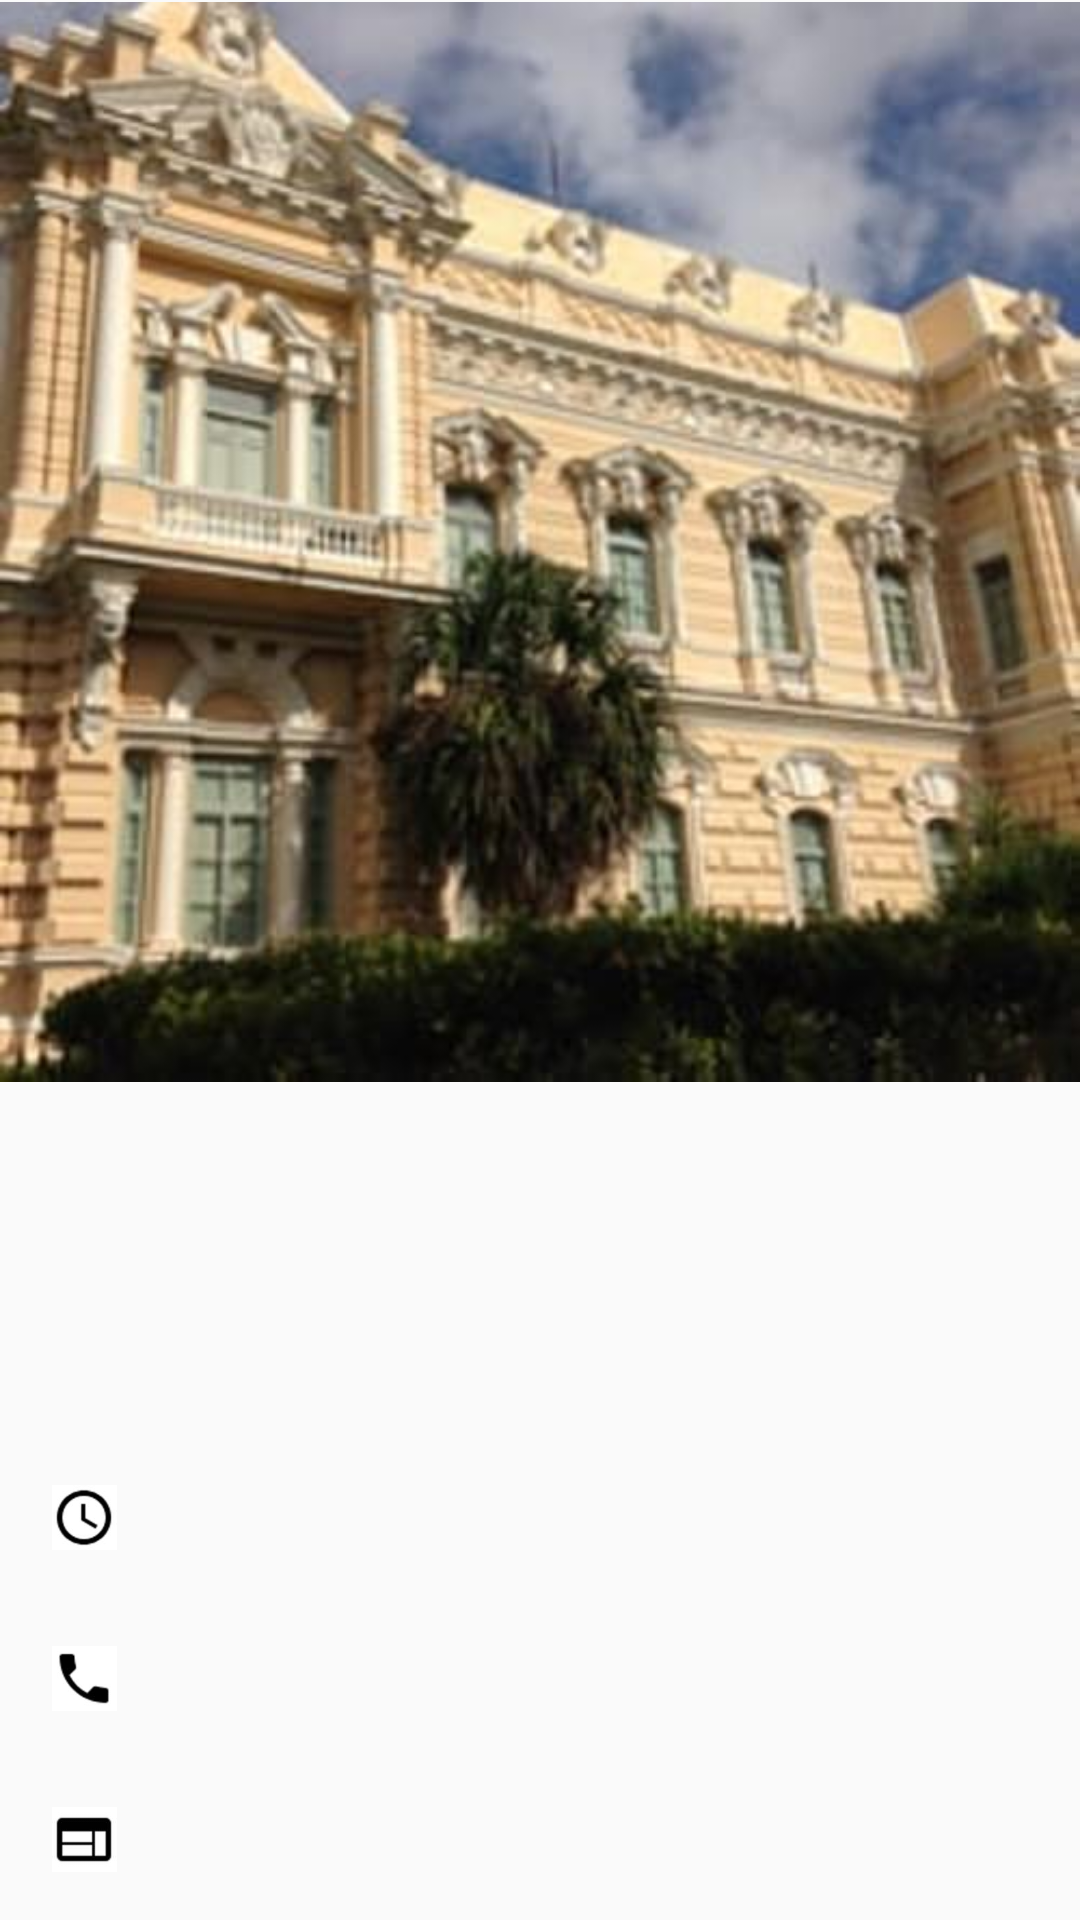

Icon click points for this 1080px x 1920px phone screenshot, format (x,y):
local phone: (84,1678)
time: (84,1517)
web: (84,1839)
